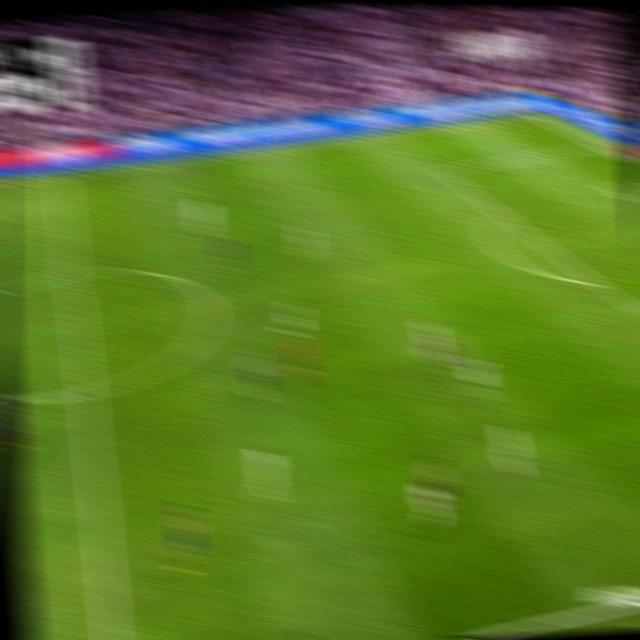bigarea_top_inner: (432, 160, 454, 179)
bottom_arc_area_intersection: (585, 271, 609, 293)
corner: (517, 106, 539, 119)
halfcircle_bottom: (72, 373, 101, 408)
halfcircle_top: (58, 257, 87, 289)
midline_top_intersection: (50, 167, 72, 185)
smallarea_top_inner: (601, 180, 620, 195)
top_arc_area_intersection: (491, 203, 513, 222)
